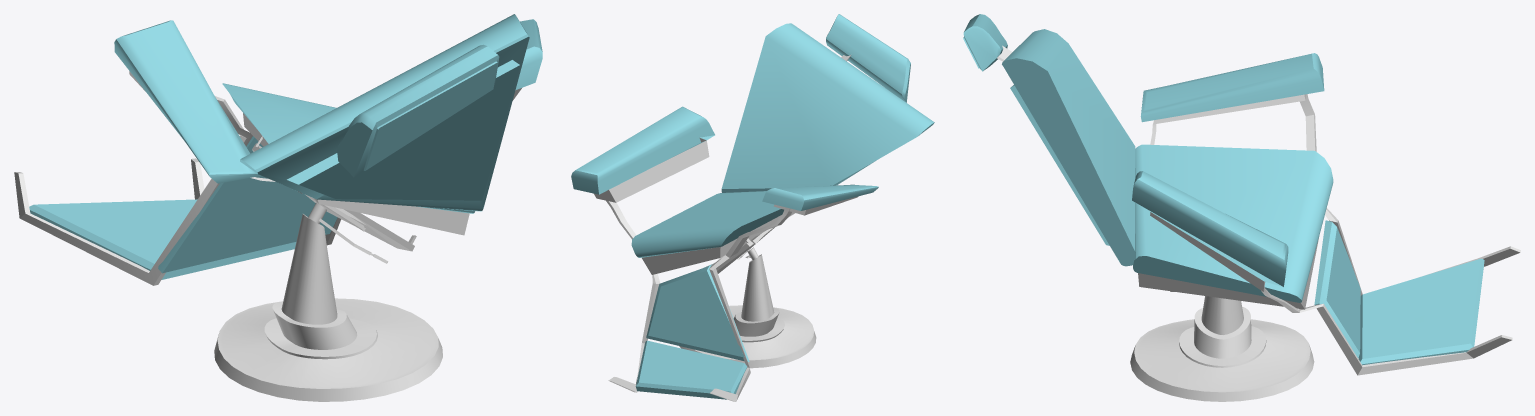
The model's file is Barbershop Chair  Ver 3 01.fbx.
3 renders of one model, left to right at view 1: azimuth 30°, elevation 25°; view 2: azimuth 150°, elevation 25°; view 3: azimuth 270°, elevation 25°, orthographic. The views are drawn at different scales.
Parts seen in each view (by area): view 1: Barber Chair ver 3; view 2: Barber Chair ver 3; view 3: Barber Chair ver 3.
Boxes of the visible parts, box(x1,y1,x2,y2) form: Barber Chair ver 3: box(14, 14, 542, 401); Barber Chair ver 3: box(571, 14, 934, 401); Barber Chair ver 3: box(963, 14, 1520, 401).
Bounding box in the file's own units: 269 × 244 × 364.
